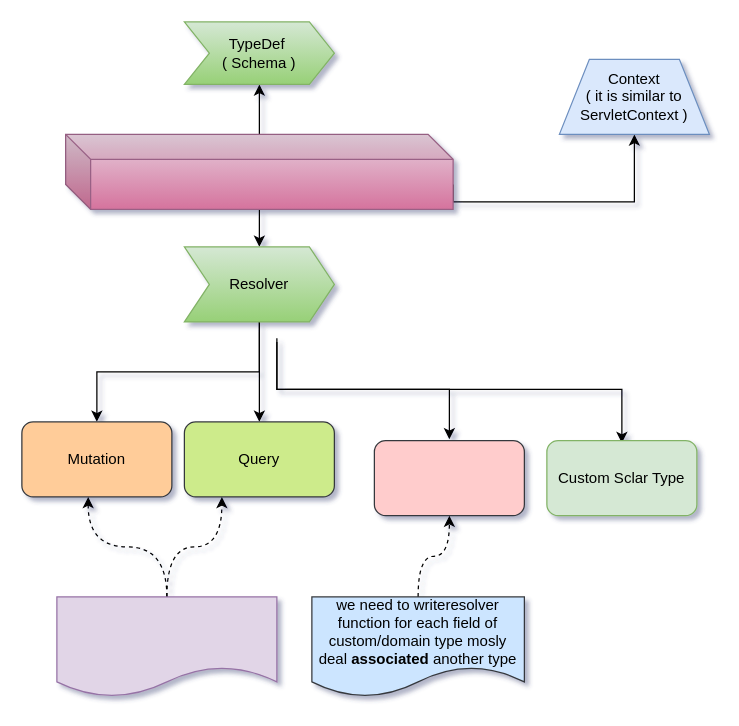
The diagram is 739 pixels wide and 726 high, and some of its shapes have lost their labels. Here are the shapes that lost their labels. From the top down, the box of each, then its label:
(64, 133, 453, 209): GraphQL API (service)
(373, 439, 524, 516): Trivial Resolver ( Custom Domain type )
(56, 596, 277, 697): we must write resolver function for each of query and mutations
